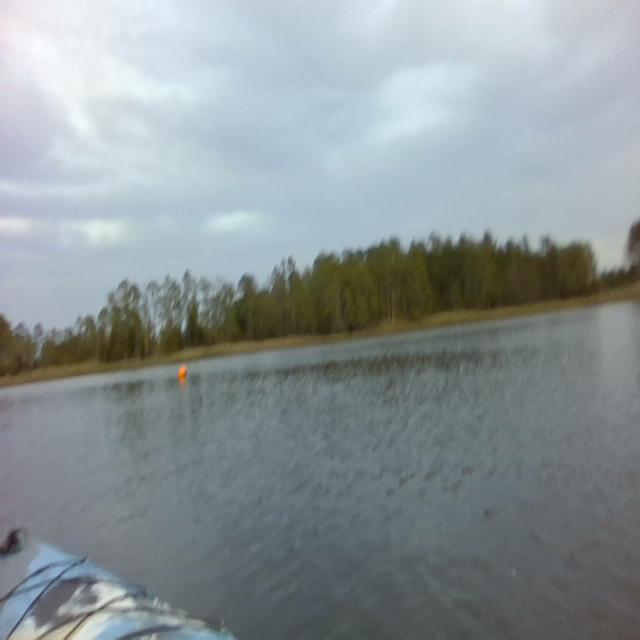Buoy: (178, 362, 187, 381)
